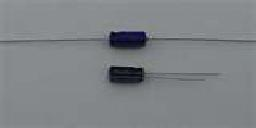Electrolytic Capacitor: (1, 22, 255, 54), (103, 59, 236, 93)
